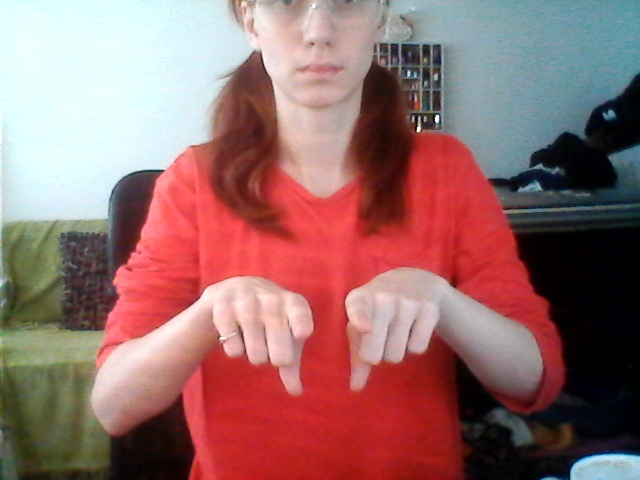sestra: (200, 255, 438, 395)
